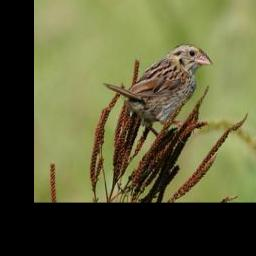Sparrow: (102, 42, 215, 141)
